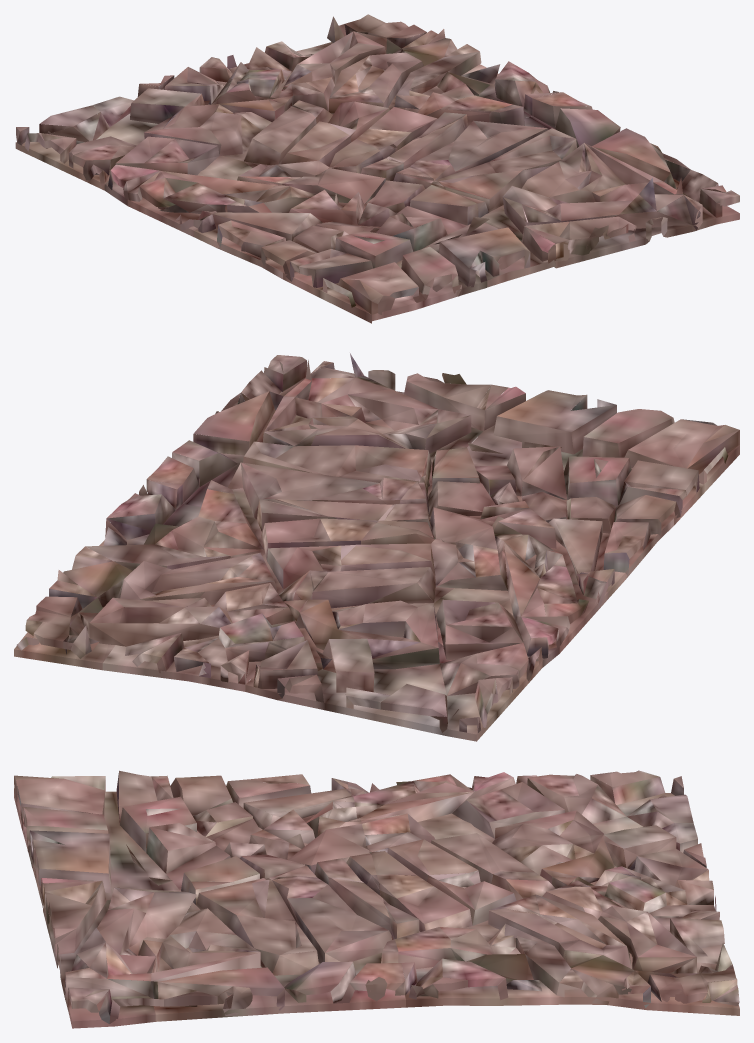
The picture shows the model from 3 angles, top to bottom: view 1: azimuth 30°, elevation 25°; view 2: azimuth 150°, elevation 25°; view 3: azimuth 270°, elevation 25°; orthographic projection. The views are drawn at different scales.
Visible parts, largest first — view 1: Mesh_0; view 2: Mesh_0; view 3: Mesh_0.
Part boxes in pixels (x1,y1,x2,y2): Mesh_0: (15, 14, 739, 323); Mesh_0: (14, 353, 739, 741); Mesh_0: (14, 770, 739, 1028).
Bounding box in the file's own units: 535 × 79.32 × 659.
2 materials, 2 textured.
